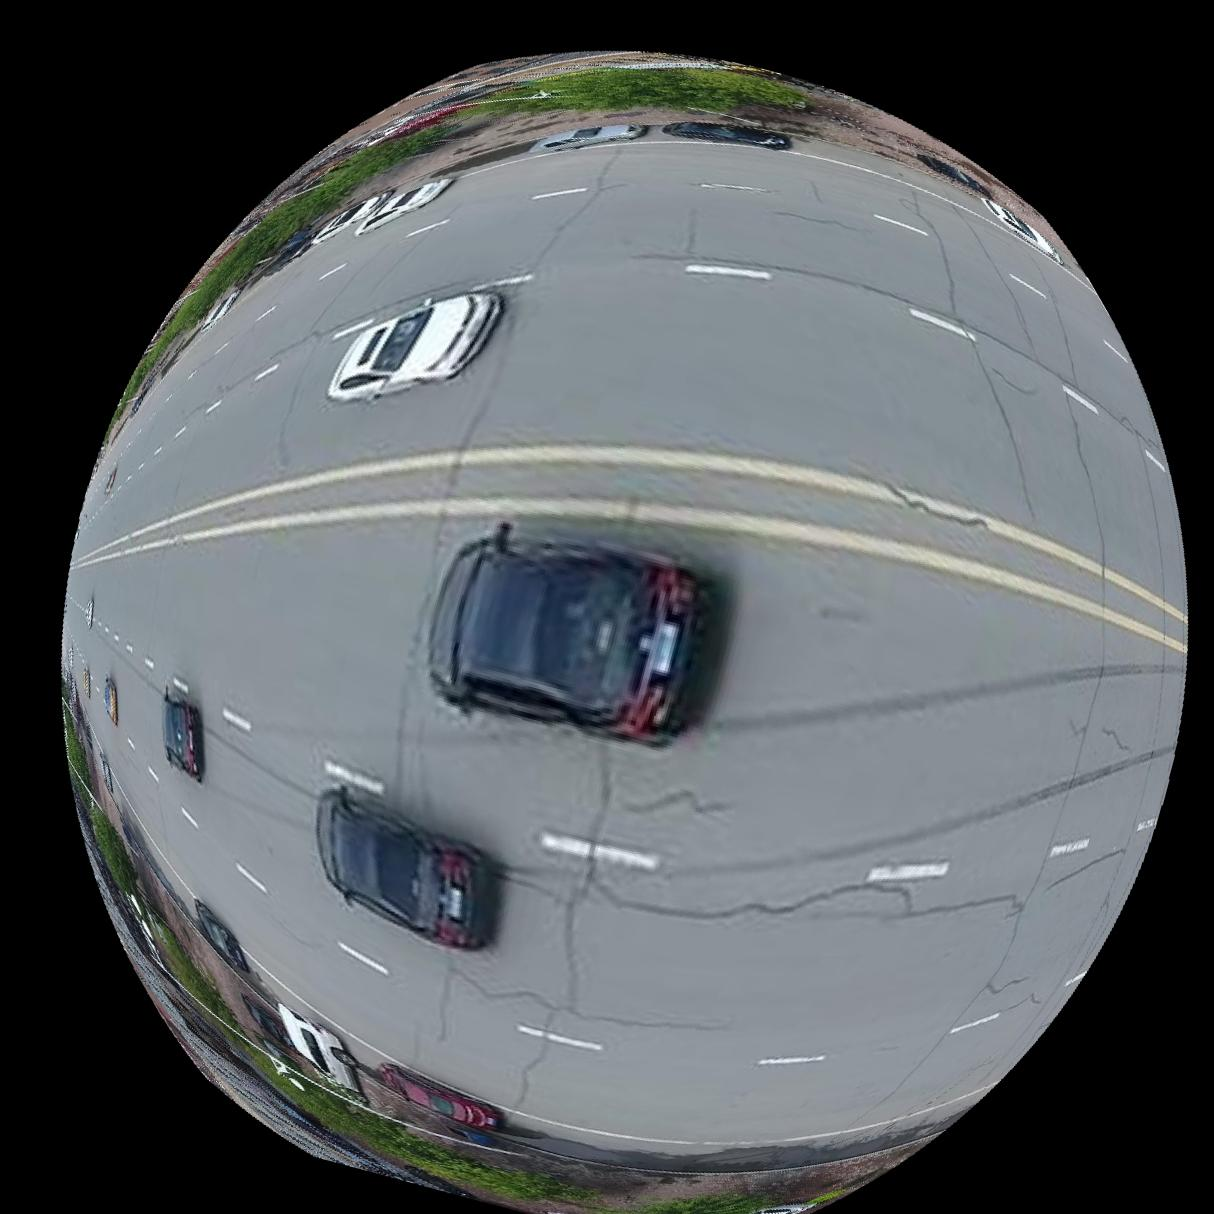cars: (428, 522, 706, 747), (315, 787, 494, 951), (327, 291, 502, 400), (377, 1064, 501, 1133), (278, 1006, 359, 1096), (355, 175, 453, 234), (985, 195, 1066, 264), (311, 191, 391, 242), (194, 902, 249, 974), (663, 119, 792, 148), (161, 692, 200, 783), (530, 122, 648, 151), (241, 997, 292, 1049), (101, 676, 116, 726)
trees: (175, 142, 417, 327), (313, 1096, 593, 1203), (540, 64, 809, 112), (151, 919, 238, 1030), (90, 811, 136, 896), (254, 1038, 307, 1099), (62, 704, 90, 792), (640, 1197, 761, 1214)
